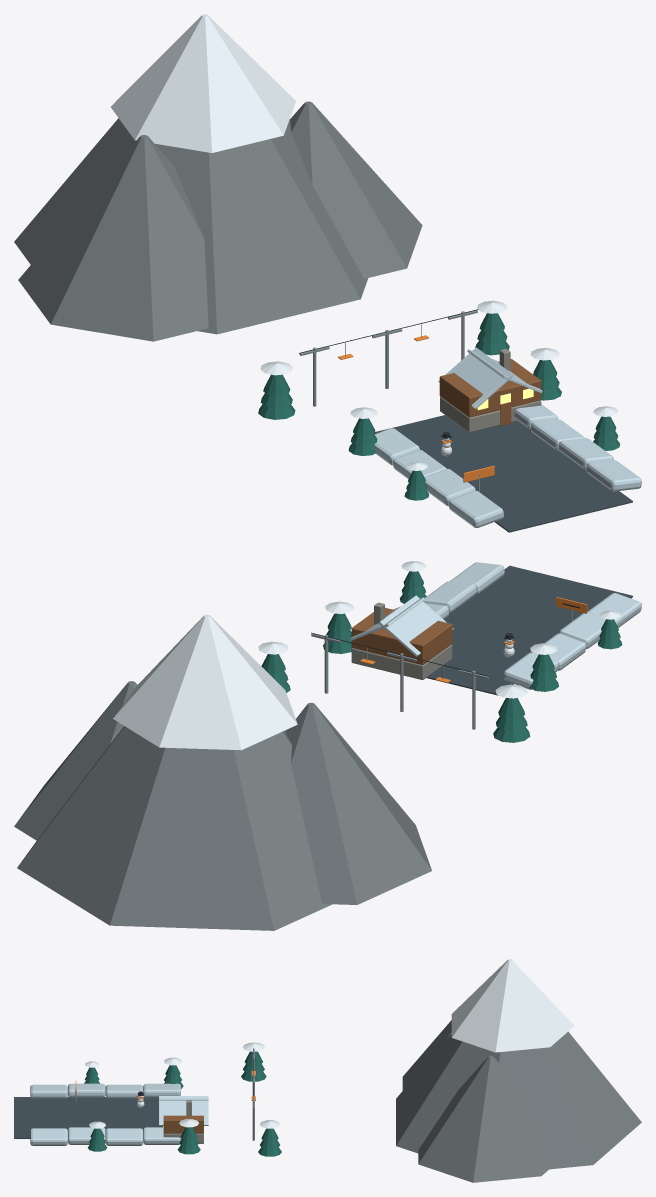
File: mount_hood_foundry.glb
3 renders of one model, top to bottom at view 1: azimuth 30°, elevation 25°; view 2: azimuth 150°, elevation 25°; view 3: azimuth 270°, elevation 25°, orthographic. The views are drawn at different scales.
Parts seen in each view (by area): view 1: MountHood_MH_ExposedRock_Batch, MountHood_MH_FreshPowder_Batch, MountHood_MH_PlowedAsphalt_Batch, MountHood_MH_PackedSnow_Batch, MountHood_MH_FirNeedles_Batch, MountHood_MH_LodgeTimber_Batch, MountHood_MH_LodgeStone_Batch, MountHood_MH_LiftSteel_Batch; view 2: MountHood_MH_ExposedRock_Batch, MountHood_MH_FreshPowder_Batch, MountHood_MH_PlowedAsphalt_Batch, MountHood_MH_PackedSnow_Batch, MountHood_MH_FirNeedles_Batch, MountHood_MH_LodgeTimber_Batch, MountHood_MH_LodgeStone_Batch, MountHood_MH_LiftSteel_Batch; view 3: MountHood_MH_ExposedRock_Batch, MountHood_MH_FreshPowder_Batch, MountHood_MH_PackedSnow_Batch, MountHood_MH_PlowedAsphalt_Batch, MountHood_MH_FirNeedles_Batch, MountHood_MH_LodgeTimber_Batch.
Part boxes in pixels (bbox=[...]): MountHood_MH_ExposedRock_Batch: bbox=[14, 101, 422, 341]; MountHood_MH_FreshPowder_Batch: bbox=[111, 14, 618, 470]; MountHood_MH_PlowedAsphalt_Batch: bbox=[374, 415, 632, 532]; MountHood_MH_PackedSnow_Batch: bbox=[374, 347, 641, 527]; MountHood_MH_FirNeedles_Batch: bbox=[258, 313, 619, 500]; MountHood_MH_LodgeTimber_Batch: bbox=[439, 359, 541, 425]; MountHood_MH_LodgeStone_Batch: bbox=[440, 349, 541, 432]; MountHood_MH_LiftSteel_Batch: bbox=[299, 310, 479, 492]; MountHood_MH_ExposedRock_Batch: bbox=[14, 681, 431, 930]; MountHood_MH_FreshPowder_Batch: bbox=[113, 561, 620, 750]; MountHood_MH_PlowedAsphalt_Batch: bbox=[426, 565, 632, 695]; MountHood_MH_PackedSnow_Batch: bbox=[350, 562, 641, 689]; MountHood_MH_FirNeedles_Batch: bbox=[261, 571, 622, 742]; MountHood_MH_LodgeTimber_Batch: bbox=[351, 607, 452, 664]; MountHood_MH_LodgeStone_Batch: bbox=[351, 602, 452, 679]; MountHood_MH_LiftSteel_Batch: bbox=[311, 606, 572, 729]; MountHood_MH_ExposedRock_Batch: bbox=[396, 1020, 641, 1182]; MountHood_MH_FreshPowder_Batch: bbox=[85, 959, 574, 1128]; MountHood_MH_PackedSnow_Batch: bbox=[30, 1083, 208, 1145]; MountHood_MH_PlowedAsphalt_Batch: bbox=[14, 1097, 162, 1138]; MountHood_MH_FirNeedles_Batch: bbox=[84, 1051, 281, 1156]; MountHood_MH_LodgeTimber_Batch: bbox=[162, 1115, 203, 1133].
Bounding box in the file's own units: 55.22 × 33.25 × 116.
